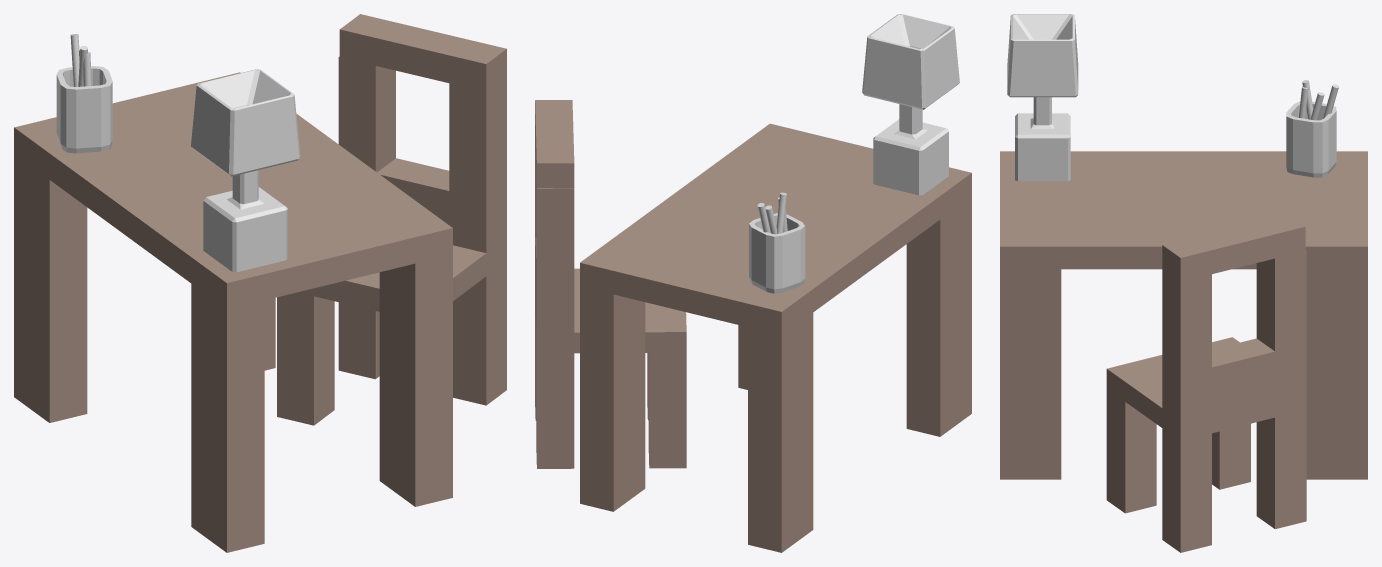
File: Deskandplant.fbx
3 views of the same model, side by side, from view 1: azimuth 30°, elevation 25°; view 2: azimuth 150°, elevation 25°; view 3: azimuth 270°, elevation 25° (orthographic). The views are drawn at different scales.
Visible parts, largest first — view 1: Cube.003, Cube.013, Cube.014, Cylinder.004; view 2: Cube.003, Cube.013, Cube.014, Cylinder.004; view 3: Cube.003, Cube.013, Cube.014, Cylinder.004.
Boxes of the visible parts, bbox=[...] form: Cube.003: bbox=[14, 14, 506, 552]; Cube.013: bbox=[191, 69, 300, 272]; Cube.014: bbox=[56, 66, 112, 153]; Cylinder.004: bbox=[70, 34, 91, 86]; Cube.003: bbox=[535, 100, 971, 552]; Cube.013: bbox=[862, 14, 959, 195]; Cube.014: bbox=[749, 213, 805, 293]; Cylinder.004: bbox=[757, 192, 787, 234]; Cube.003: bbox=[1000, 151, 1367, 552]; Cube.013: bbox=[1007, 14, 1078, 181]; Cube.014: bbox=[1286, 101, 1336, 177]; Cylinder.004: bbox=[1298, 80, 1338, 120].
Size of the model in its own units: 961 by 1058 by 922.
